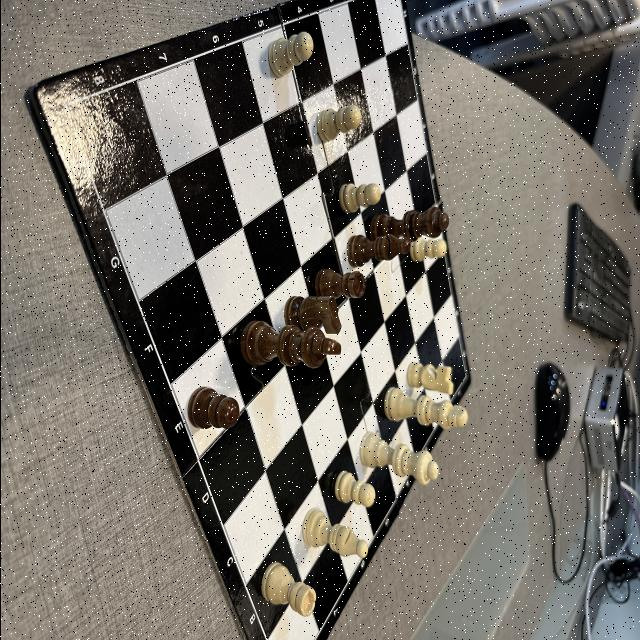Black-Bishop: (346, 234, 410, 268)
Black-King: (238, 318, 340, 369)
Black-Knight: (282, 296, 340, 334)
Black-Pawn: (186, 386, 238, 430)
Black-Queen: (368, 206, 448, 238)
Black-Rook: (314, 268, 364, 298)
White-Bishop: (302, 508, 368, 558)
White-King: (383, 386, 467, 430)
White-Knight: (406, 361, 452, 395)
White-Pawn: (267, 32, 313, 78), (315, 104, 361, 144), (334, 470, 374, 508), (338, 183, 380, 214), (408, 237, 446, 263)
White-Queen: (358, 432, 438, 484)
White-Rook: (260, 562, 316, 618)
